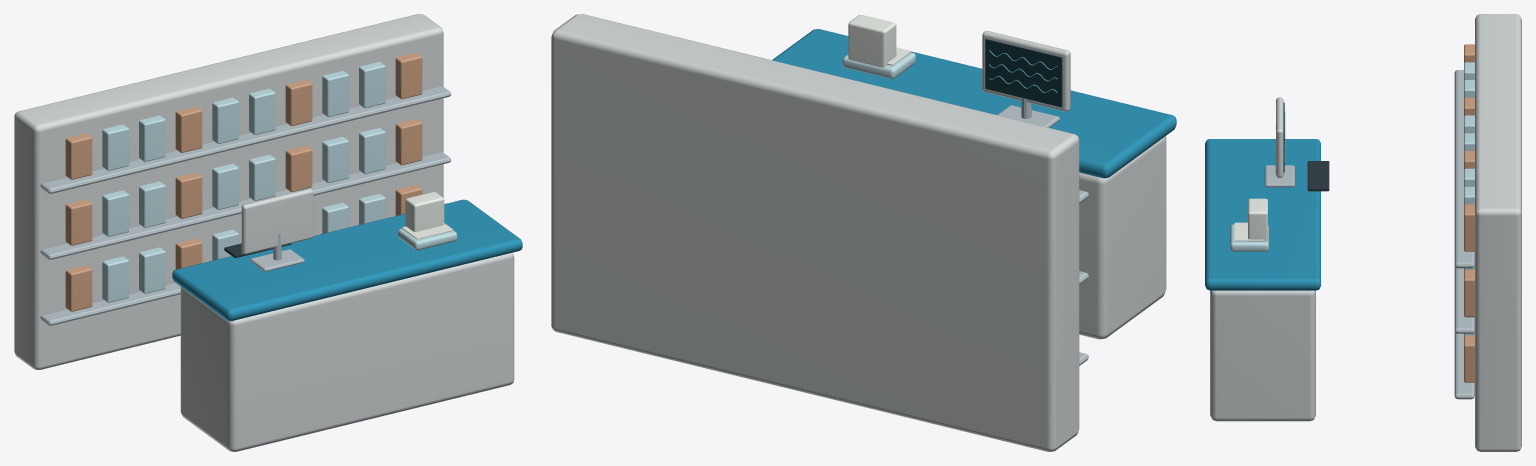
The model's file is pharmacy.glb.
3 renders of one model, left to right at view 1: azimuth 30°, elevation 25°; view 2: azimuth 150°, elevation 25°; view 3: azimuth 270°, elevation 25°, orthographic. The views are drawn at different scales.
Visible parts, largest first — view 1: Accessible reception counter, Document tray.001, Satin counter top.001, Fictional unbranded supply 0, Pharmacy swivel post, Fictional order form.001; view 2: Accessible reception counter, Satin counter top.001, Pharmacy fictional display, Fictional order form.001, Pharmacy swivel post, Document tray.001; view 3: Accessible reception counter, Satin counter top.001, Pharmacy swivel post, Fictional unbranded supply 0, Document tray.001, Fictional order form.001, Pharmacy keyboard.
Boxes of the visible parts, left/top/right/bottom form: Accessible reception counter: left=14, top=14, right=514, bottom=451; Document tray.001: left=102, top=62, right=457, bottom=302; Satin counter top.001: left=172, top=199, right=522, bottom=320; Fictional unbranded supply 0: left=65, top=53, right=422, bottom=311; Pharmacy swivel post: left=40, top=86, right=451, bottom=325; Fictional order form.001: left=401, top=192, right=453, bottom=239; Accessible reception counter: left=551, top=14, right=1166, bottom=451; Satin counter top.001: left=772, top=29, right=1176, bottom=178; Pharmacy fictional display: left=985, top=39, right=1062, bottom=107; Fictional order form.001: left=847, top=15, right=910, bottom=67; Pharmacy swivel post: left=997, top=98, right=1088, bottom=365; Document tray.001: left=842, top=52, right=915, bottom=78; Accessible reception counter: left=1210, top=14, right=1521, bottom=451; Satin counter top.001: left=1205, top=139, right=1320, bottom=290; Pharmacy swivel post: left=1264, top=70, right=1474, bottom=399; Fictional unbranded supply 0: left=1464, top=44, right=1474, bottom=382; Document tray.001: left=1230, top=62, right=1474, bottom=335; Fictional order form.001: left=1234, top=198, right=1267, bottom=241; Pharmacy keyboard: left=1307, top=161, right=1329, bottom=191.
Size of the model in its own units: 2.8 by 1.6 by 1.88.
